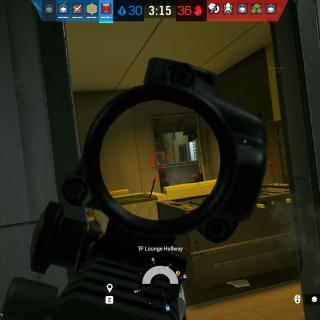Friend_label: (238, 138, 252, 149)
